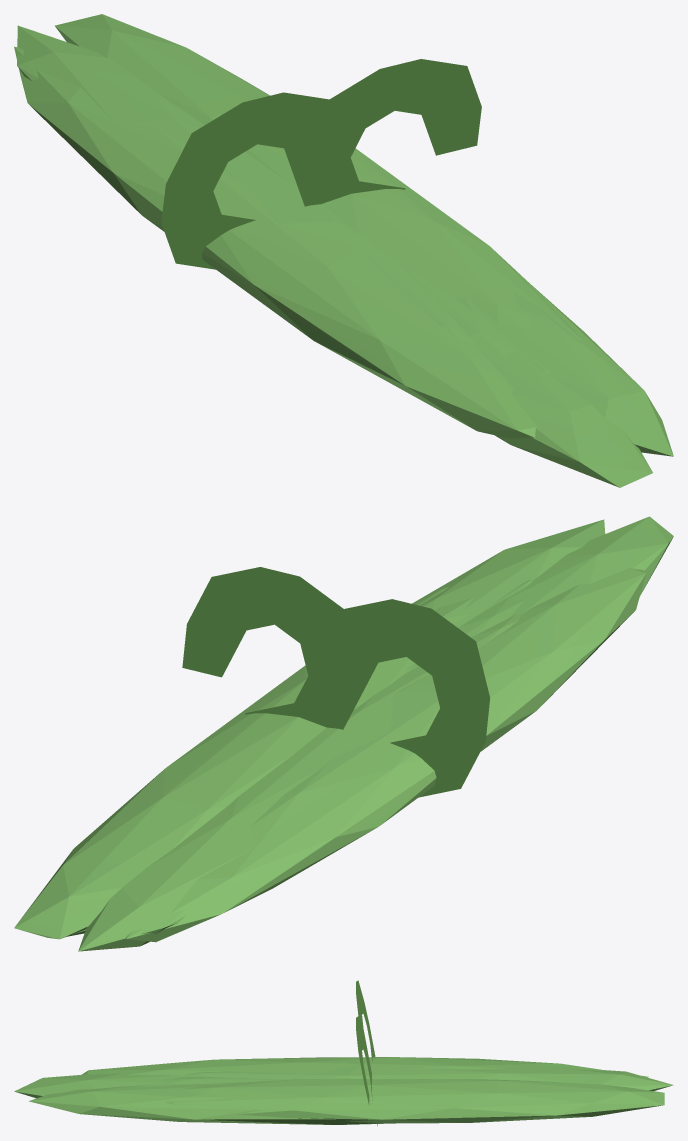
File: tectaria-membranacea.glb
3 views of the same model, one above another, from view 1: azimuth 30°, elevation 25°; view 2: azimuth 150°, elevation 25°; view 3: azimuth 270°, elevation 25° (orthographic). The views are drawn at different scales.
Parts seen in each view (by area): view 1: frond3, frond0, frond4, fiddle-1, fiddle1, frond2, frond1, frond5; view 2: frond3, frond0, frond4, fiddle-1, fiddle1, frond2, frond1, frond5; view 3: frond0, frond1, frond3, frond4, frond2, frond5, fiddle1, fiddle-1.
Boxes of the visible parts, bbox=[...] form: frond3: bbox=[14, 46, 537, 438]; frond0: bbox=[55, 14, 580, 340]; frond4: bbox=[17, 25, 474, 344]; fiddle-1: bbox=[161, 92, 344, 269]; fiddle1: bbox=[298, 59, 481, 206]; frond2: bbox=[471, 339, 652, 487]; frond1: bbox=[456, 271, 673, 456]; frond5: bbox=[402, 267, 520, 355]; frond3: bbox=[126, 567, 645, 942]; frond0: bbox=[14, 586, 474, 939]; frond4: bbox=[78, 614, 520, 951]; fiddle-1: bbox=[314, 599, 489, 797]; fiddle1: bbox=[182, 567, 358, 729]; frond2: bbox=[494, 516, 673, 616]; frond1: bbox=[412, 519, 605, 627]; frond5: bbox=[408, 596, 524, 671]; frond0: bbox=[165, 1078, 664, 1123]; frond1: bbox=[29, 1083, 395, 1124]; frond3: bbox=[81, 1057, 648, 1077]; frond4: bbox=[184, 1064, 673, 1090]; frond2: bbox=[14, 1073, 187, 1098]; frond5: bbox=[163, 1076, 280, 1084]; fiddle1: bbox=[356, 1016, 377, 1126]; fiddle-1: bbox=[356, 980, 375, 1069].
Size of the model in its own units: 0.184 by 0.1057 by 0.6207.
